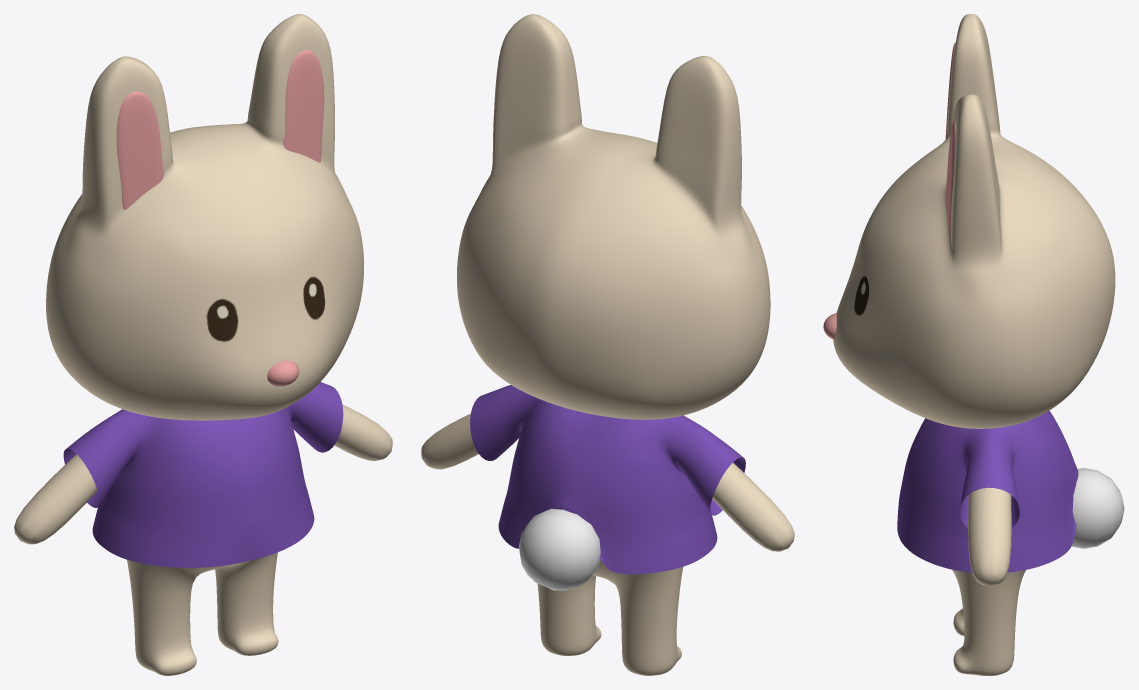
File: bunny_NH.glb
3 renders of one model, left to right at view 1: azimuth 30°, elevation 25°; view 2: azimuth 150°, elevation 25°; view 3: azimuth 270°, elevation 25°, orthographic. The views are drawn at different scales.
Visible parts, largest first — view 1: bunny head, bunny shirt, bunny body, bunny ears inner, bunny nose; view 2: bunny head, bunny shirt, bunny body, bunny tail; view 3: bunny head, bunny shirt, bunny body, bunny tail, bunny ears inner.
Boxes of the visible parts, box(x1,y1,x2,y2) form: bunny head: box(46, 14, 363, 420); bunny shirt: box(63, 382, 343, 567); bunny body: box(14, 404, 392, 675); bunny ears inner: box(116, 50, 324, 209); bunny nose: box(267, 360, 299, 386); bunny head: box(457, 14, 770, 419); bunny shirt: box(470, 385, 745, 574); bunny body: box(421, 413, 794, 675); bunny tail: box(519, 508, 600, 590); bunny head: box(833, 14, 1115, 428); bunny shirt: box(897, 410, 1078, 572); bunny body: box(952, 487, 1025, 675); bunny tail: box(1071, 468, 1124, 548); bunny ears inner: box(945, 43, 955, 234).
Size of the model in its own units: 2.23 by 3.57 by 1.64.
Materials: 5 (2 with a texture image).
